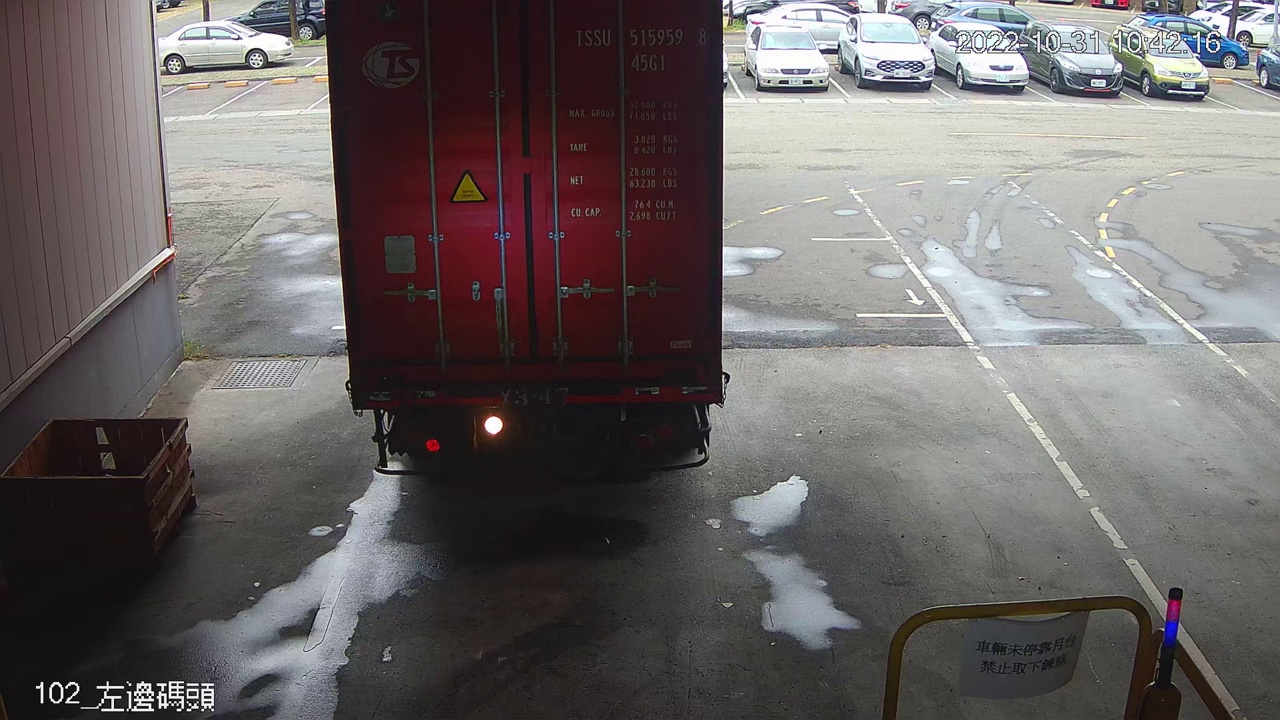container: (568, 20, 715, 76)
